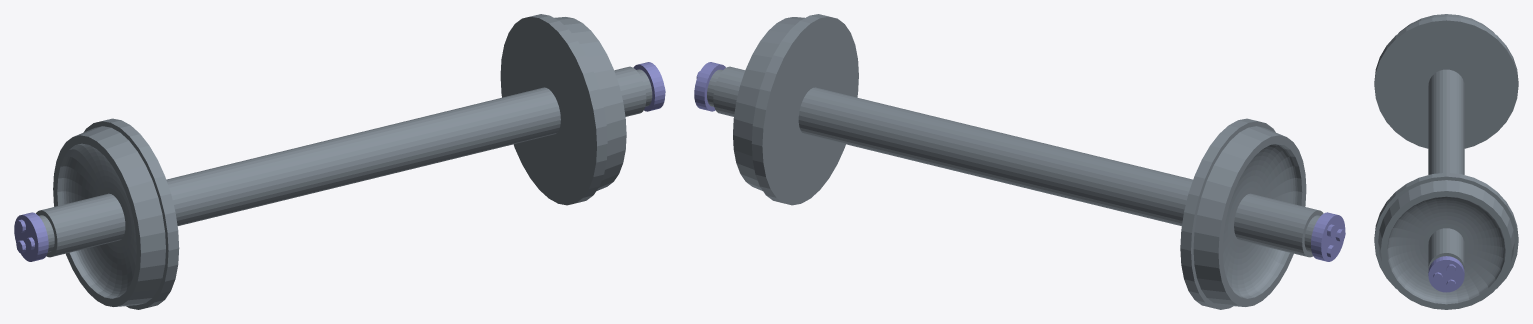
Rendered from exciting_lowpolywheel.glb.
3 renders of one model, left to right at view 1: azimuth 30°, elevation 25°; view 2: azimuth 150°, elevation 25°; view 3: azimuth 270°, elevation 25°, orthographic. The views are drawn at different scales.
Parts seen in each view (by area): view 1: Object_2, Object_3; view 2: Object_2, Object_3; view 3: Object_2, Object_3.
Part boxes in pixels (x1,y1,x2,y2): Object_2: (36, 14, 652, 309); Object_3: (14, 62, 665, 261); Object_2: (707, 14, 1323, 309); Object_3: (694, 62, 1345, 261); Object_2: (1374, 14, 1518, 309); Object_3: (1428, 256, 1464, 292).
Size of the model in its own units: 6.07 by 1.6 by 1.6.
